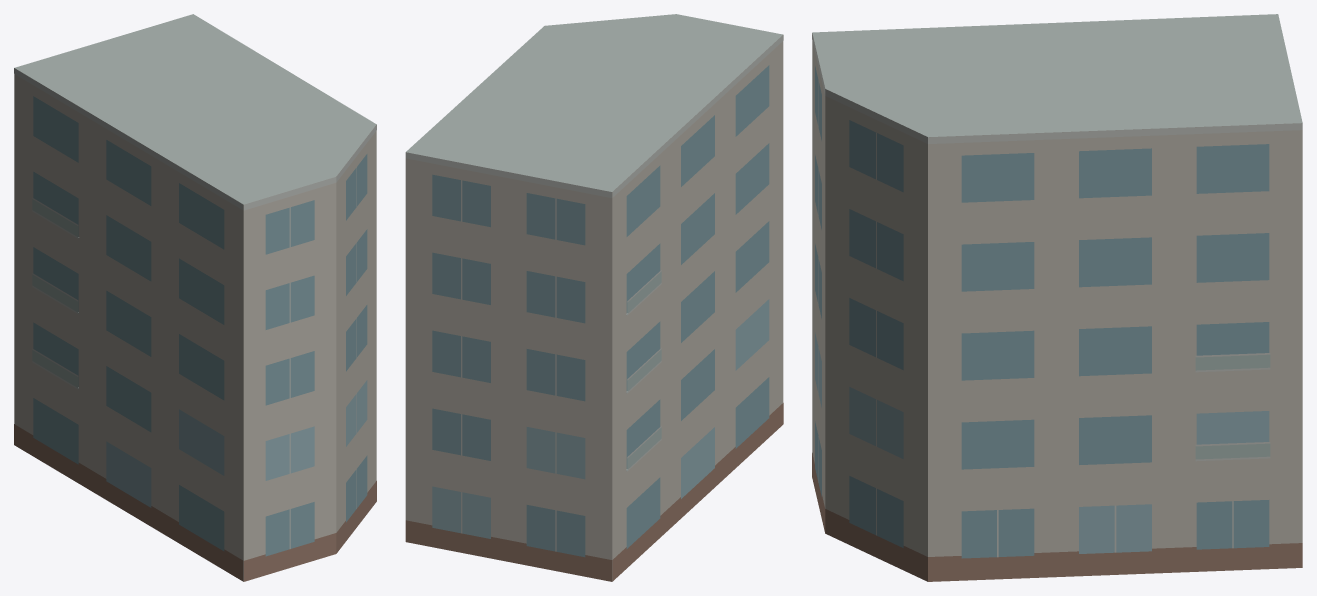
File: survey-upis-32755154.glb
The picture shows the model from 3 angles, left to right: view 1: azimuth 30°, elevation 25°; view 2: azimuth 150°, elevation 25°; view 3: azimuth 270°, elevation 25°; orthographic projection. The views are drawn at different scales.
Parts seen in each view (by area): view 1: survey-upis-32755154.tmp; view 2: survey-upis-32755154.tmp; view 3: survey-upis-32755154.tmp.
Boxes of the visible parts, x1,y1,x2,y2 form: survey-upis-32755154.tmp: (14,14,376,581); survey-upis-32755154.tmp: (405,14,783,581); survey-upis-32755154.tmp: (812,14,1302,581).
Size of the model in its own units: 9.21 by 15.5 by 15.51.
